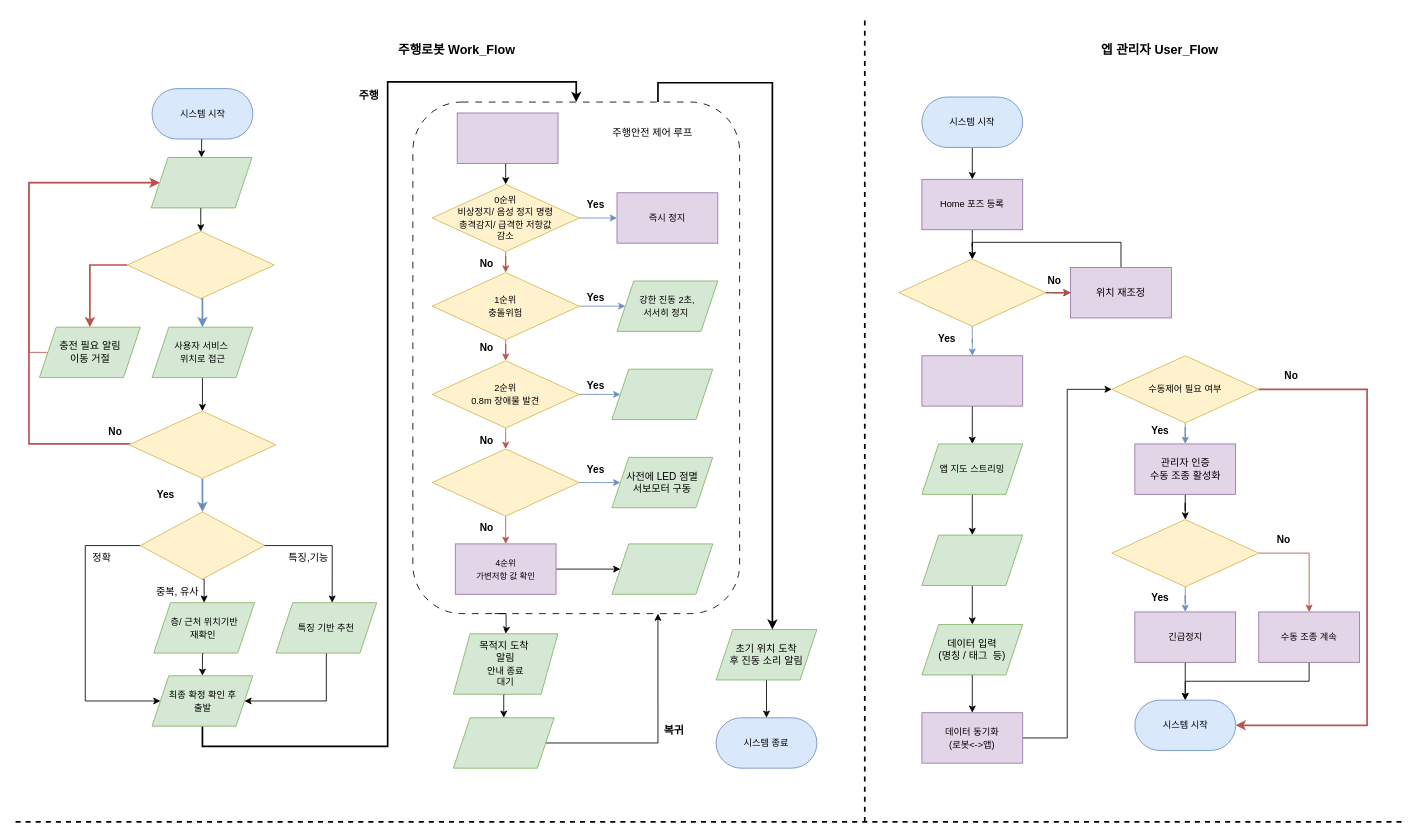
This 1417x837 diagram has some shape labels left out. Each missing label, with the box of its shape:
"알렉스" 호출 수신: (150, 157, 252, 208)
3순위 정해진 경로상의 선회시 회전각 45도 이상: (431, 448, 579, 516)
Home 위치 확정 SLAM 지도 작성: (921, 355, 1023, 406)
Home 포즈 검증 확인: (898, 258, 1046, 326)
관리자 지도 상에 위치 등록 (터치 2초): (921, 534, 1023, 585)
목적지명 파악: (139, 511, 265, 579)
베터리 상태 35% 이상: (126, 231, 274, 299)
사용자 유무: (128, 410, 276, 478)
슬로우 스타트 max 4km/h: (456, 112, 558, 163)
저항값이 증가하면 속도 감소: (611, 543, 713, 594)
초기 위치로 복귀 시작: (453, 717, 554, 768)
통신 달절 확인 (1초 이상): (1111, 519, 1259, 587)
햅틱 0.2초 3번, 회피방향으로 서보모터 구동 회피 기동: (611, 368, 713, 420)
